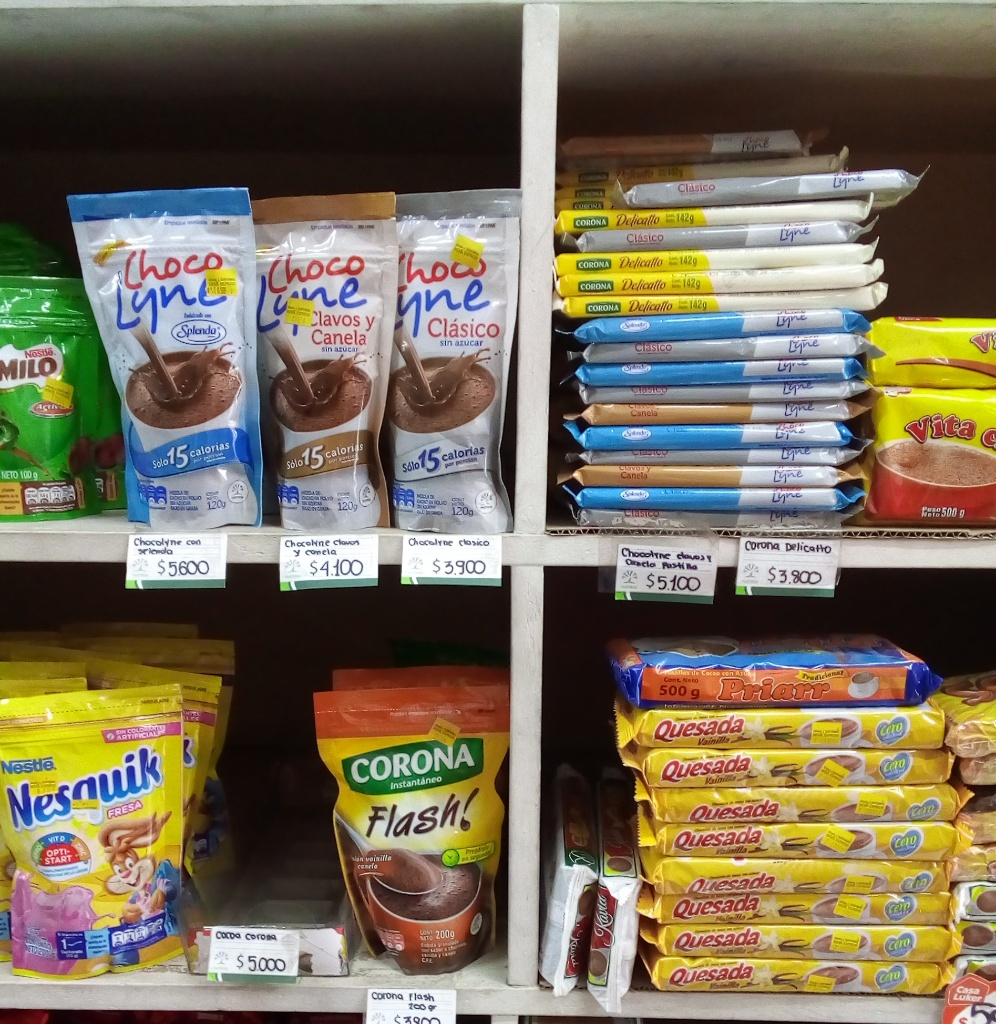COL0170203DYP10000: (0, 278, 109, 530)
COL0170305DYP20000: (0, 698, 197, 979)
